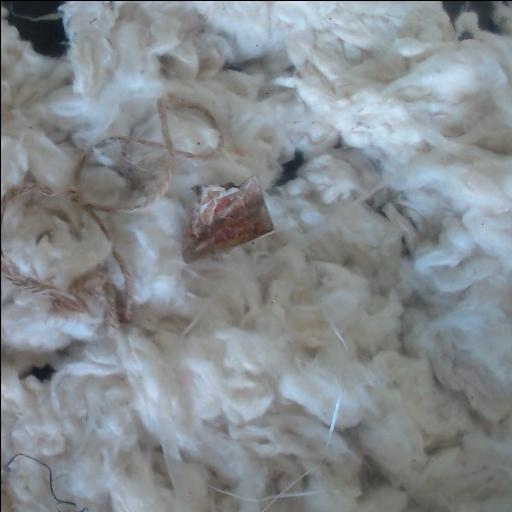conveyor belt: (1, 1, 68, 57), (442, 1, 495, 32), (275, 152, 303, 185)
cotton: (1, 1, 512, 512)
jute: (1, 97, 220, 328)
packet: (182, 178, 272, 261)
thread: (212, 470, 323, 512), (4, 453, 75, 507), (325, 371, 341, 449), (328, 316, 345, 351)
